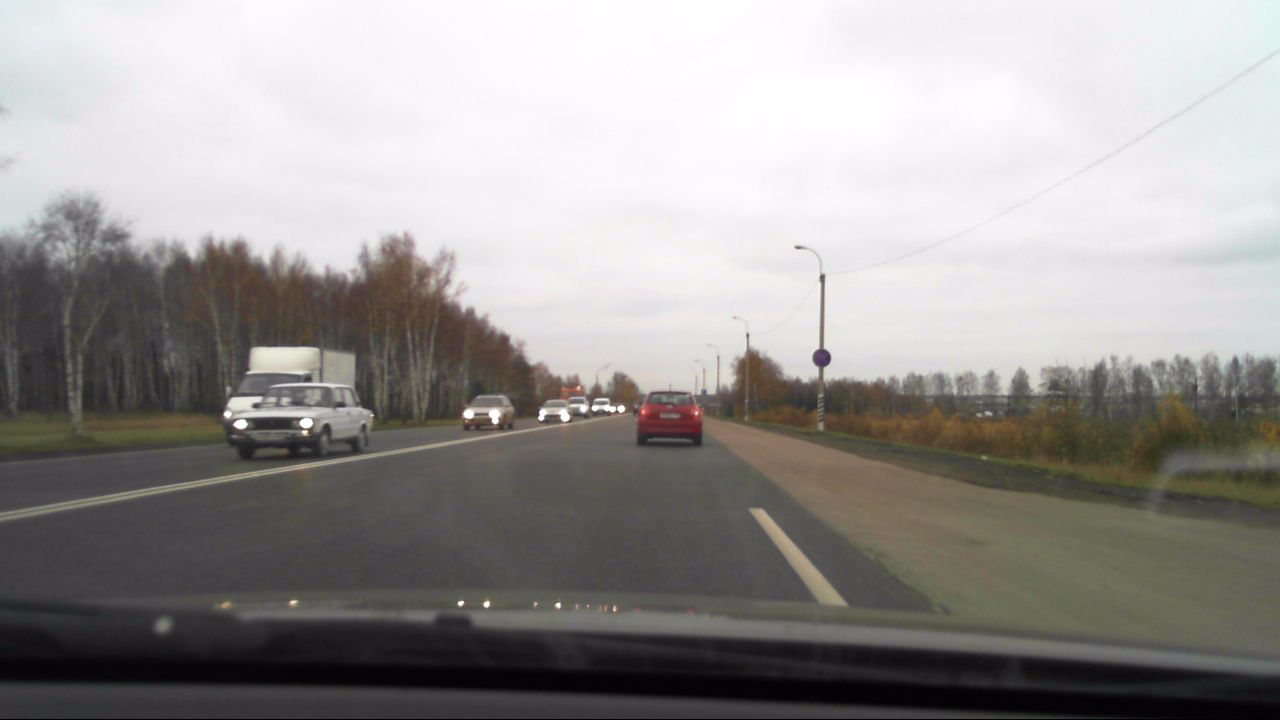No Parking: (810, 347, 833, 367)
